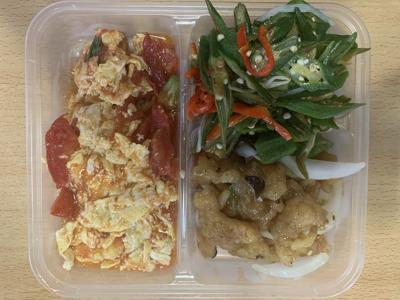gbr: (188, 158, 343, 274)
jdxhs: (46, 23, 179, 272)
